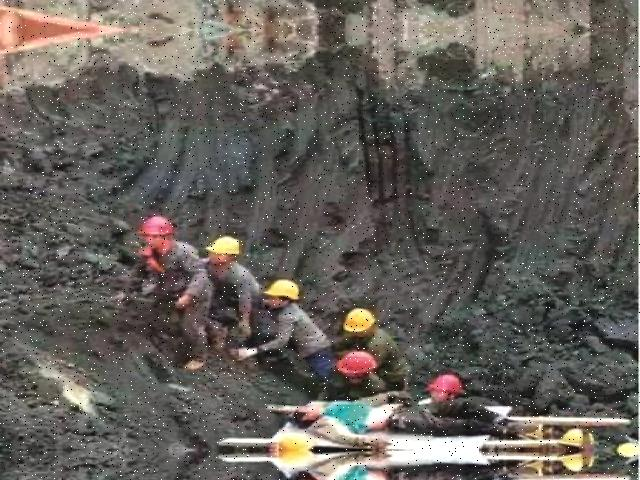Helmet: (261, 275, 308, 309), (334, 346, 382, 378), (342, 301, 380, 337), (138, 210, 180, 240), (203, 233, 250, 258), (425, 371, 470, 395)
